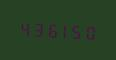five: (70, 20, 82, 41)
four: (17, 17, 29, 38)
one: (57, 19, 69, 40)
six: (44, 19, 56, 39)
three: (30, 18, 42, 39)
zero: (83, 21, 95, 41)
